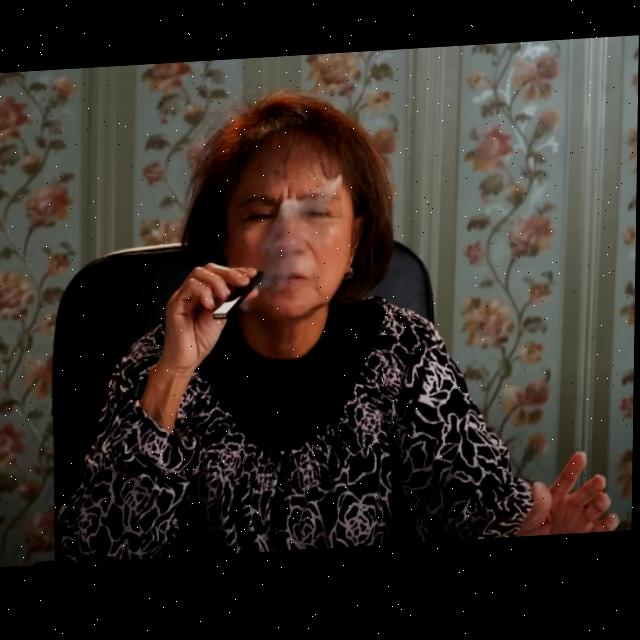vape: (213, 273, 266, 322)
